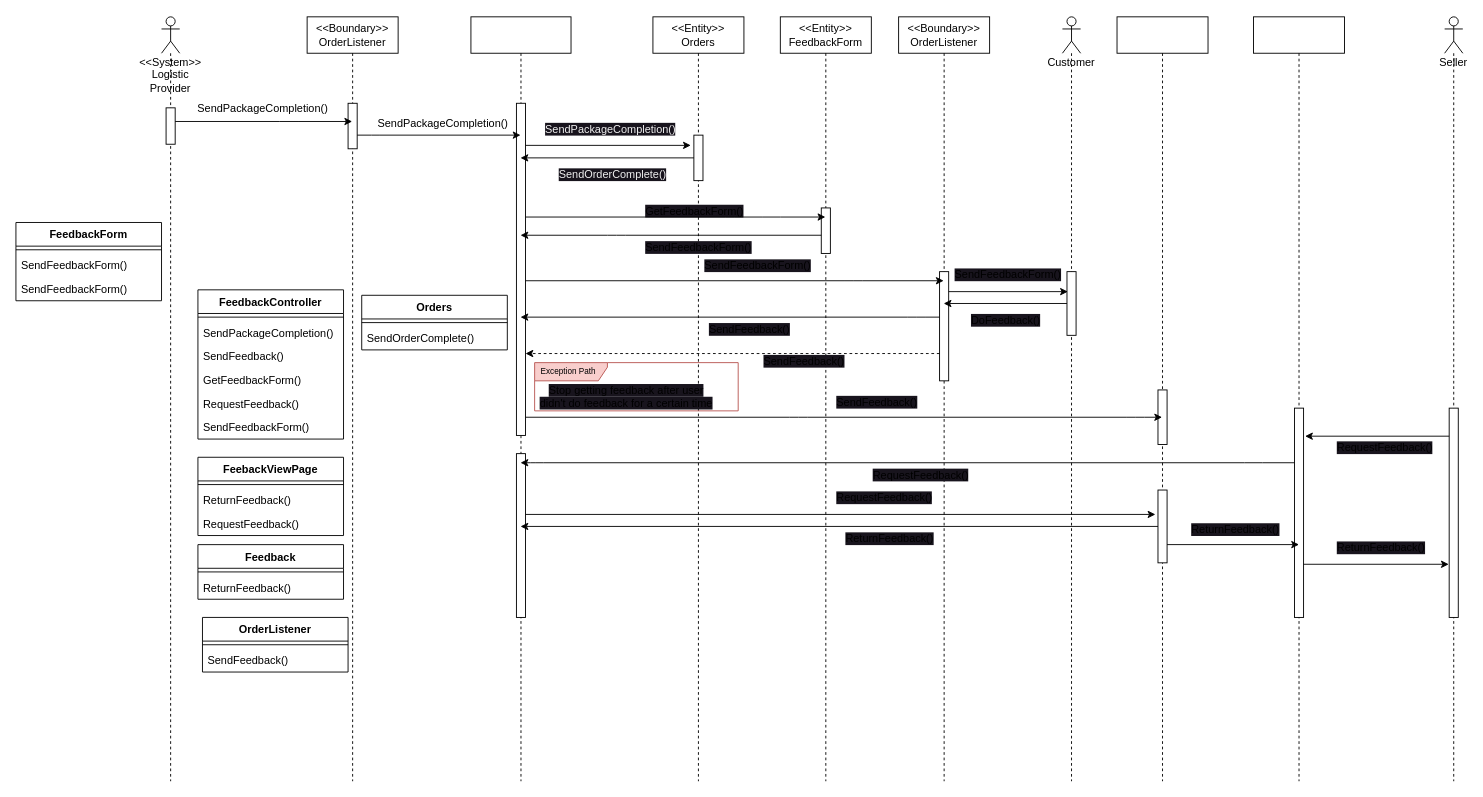
The diagram is 1483 pixels wide and 797 high, and some of its shapes have lost their labels. The centre of each missing label's shape, as x and y in pixels:
"<<Boundary>> Feedback View page" goes at pixel 1299 398.
"<<Control>> FeedbackController" goes at pixel 520 398.
"<<Entity>> Feedback" goes at pixel 1162 398.
